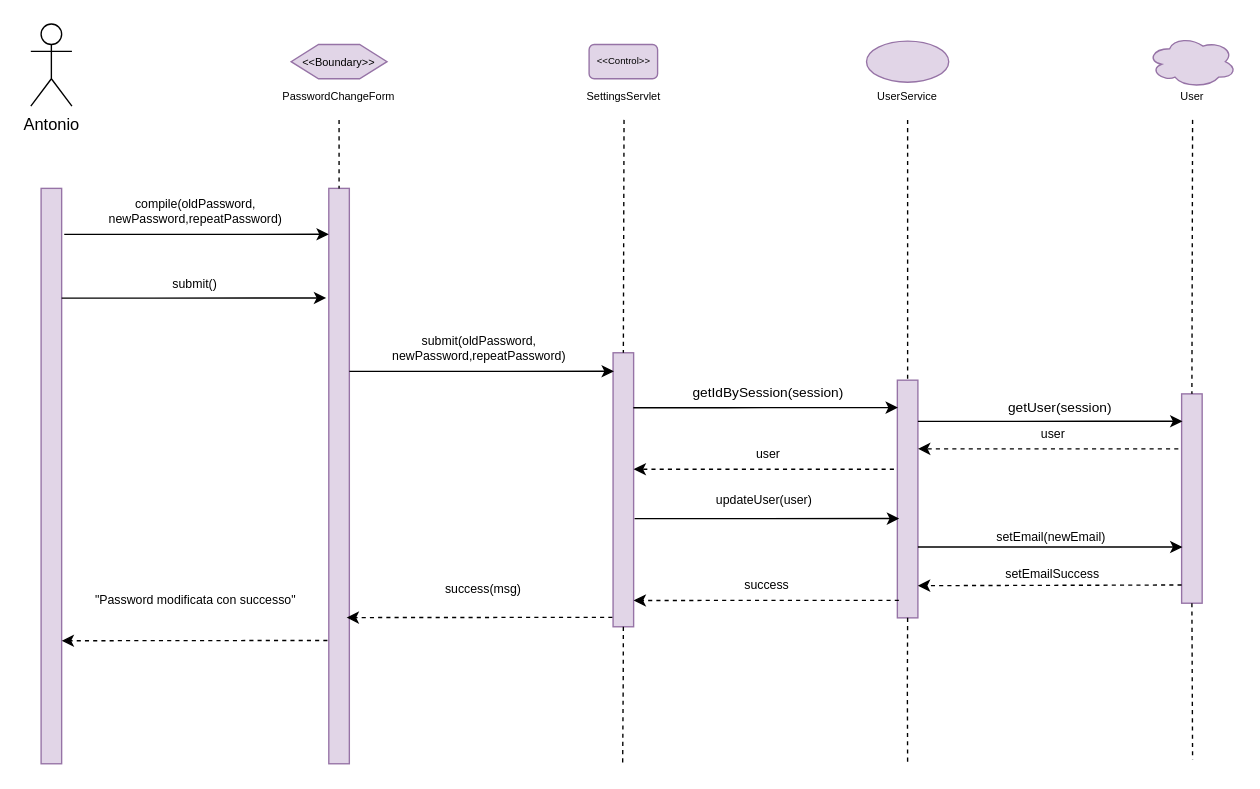
Some shapes in this 1260 by 789 pixel diagram are drawn without their labels. Here are the shapes that lost their labels. From the top down, the box of each, then its label:
(865, 40, 949, 82): <<Model>>
(1146, 34, 1236, 88): <<Entity>>
